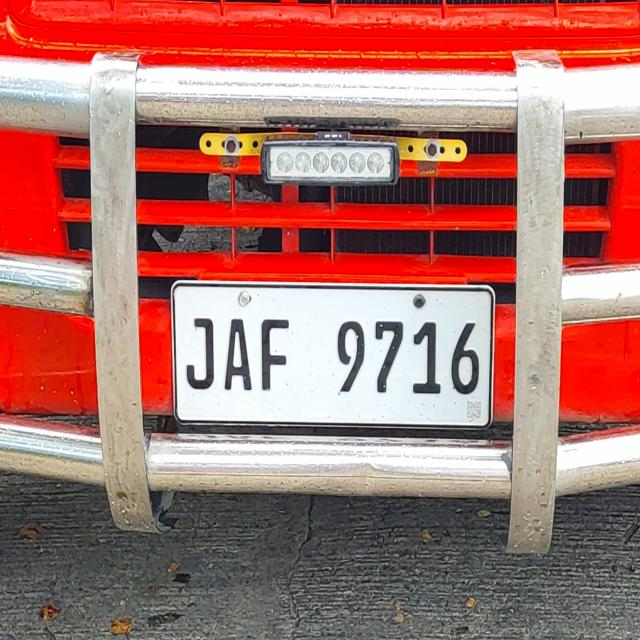plate: (169, 278, 497, 432)
